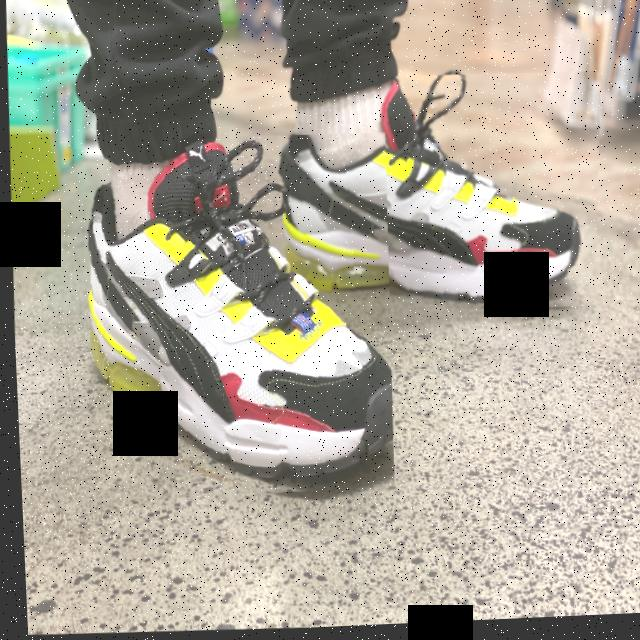shoe: (41, 130, 396, 509), (257, 70, 609, 332)
